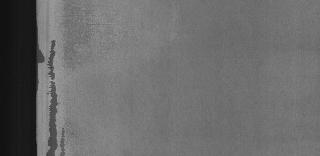oil spot: (46, 38, 70, 156)
